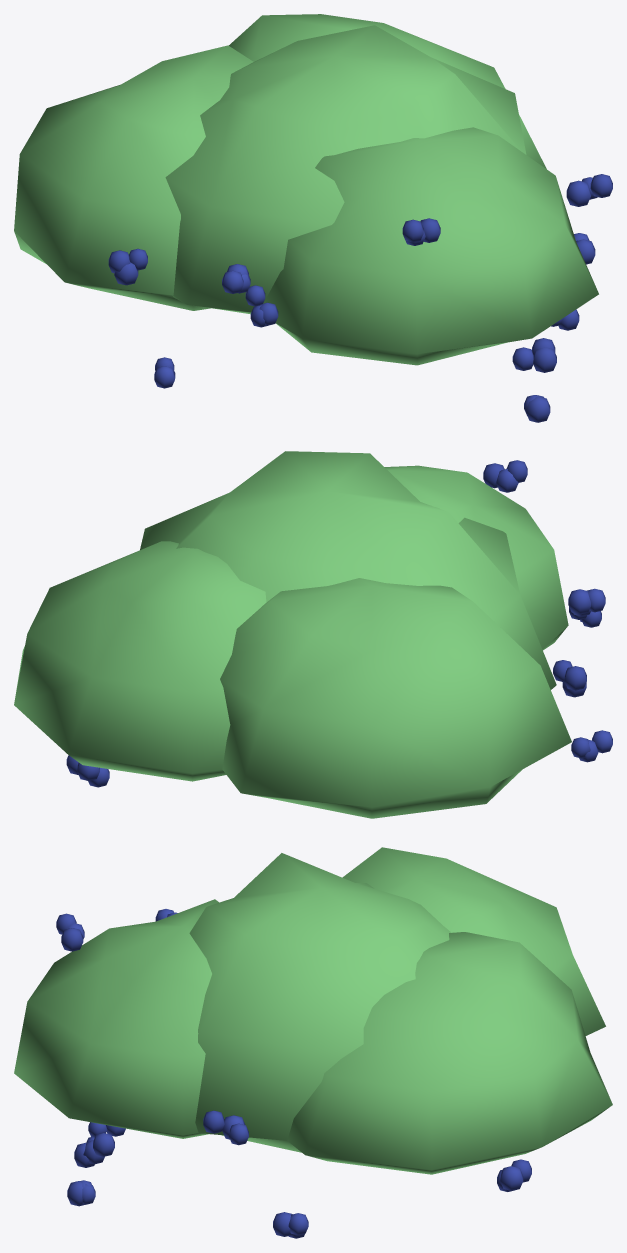
File: ing_bilberry.gltf
3 renders of one model, top to bottom at view 1: azimuth 30°, elevation 25°; view 2: azimuth 150°, elevation 25°; view 3: azimuth 270°, elevation 25°, orthographic. The views are drawn at different scales.
Parts seen in each view (by area): view 1: ing_bilberry; view 2: ing_bilberry; view 3: ing_bilberry.
Part boxes in pixels (x1,y1,x2,y2): ing_bilberry: (14,14,612,422); ing_bilberry: (14,451,612,818); ing_bilberry: (14,847,612,1238).
Size of what is drawn, in the model's own units: 0.4487 by 0.2517 by 0.485.
